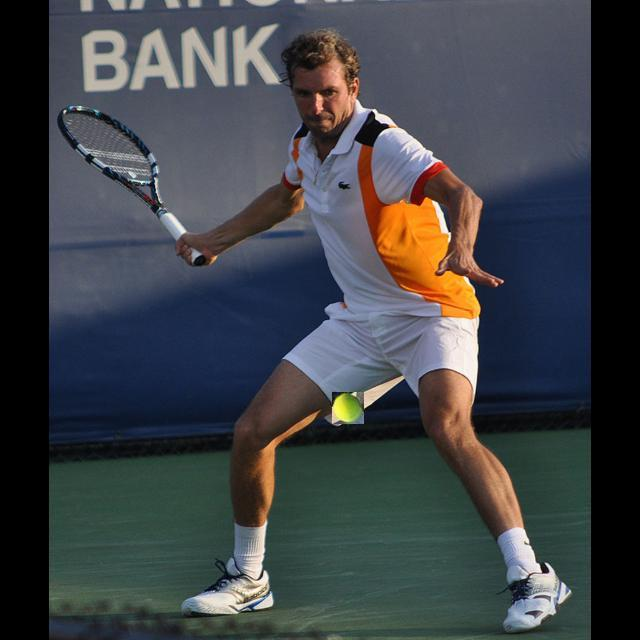tennis ball: (332, 392, 364, 424)
